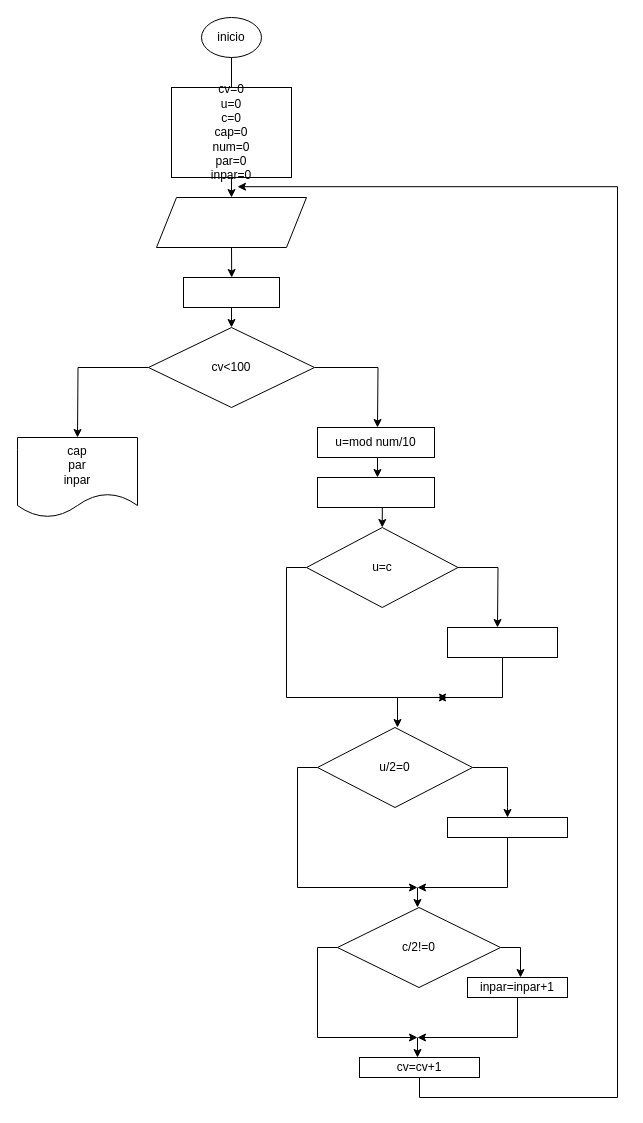
The diagram is 643 pixels wide and 1123 high, and some of its shapes have lost their labels. The shapes that lost their labels are listed below. From the top down, each one's box as (x1, y1, x2, y2) in pixels, then its label:
(156, 196, 306, 248): "ingrese el numero"
(182, 276, 280, 308): num
(316, 476, 434, 508): c=trunc num/100
(446, 626, 558, 658): cap=cap+1
(446, 816, 568, 838): par=par+u
